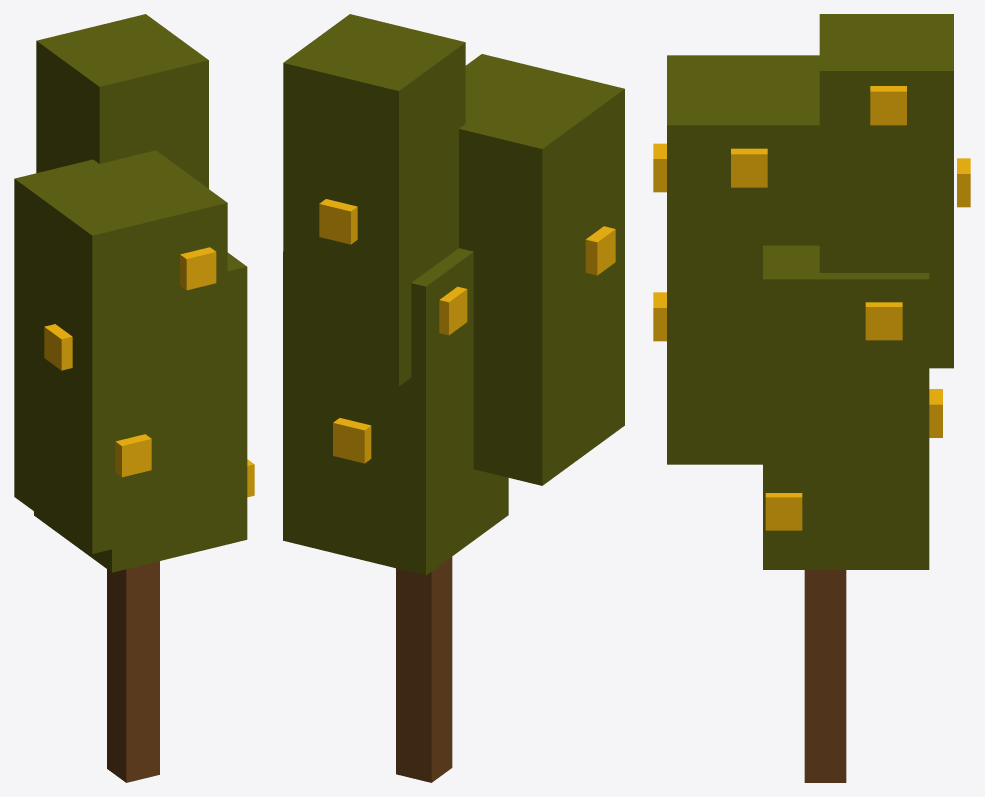
The model's file is HightWood3.fbx.
3 renders of one model, left to right at view 1: azimuth 30°, elevation 25°; view 2: azimuth 150°, elevation 25°; view 3: azimuth 270°, elevation 25°, orthographic. The views are drawn at different scales.
Visible parts, largest first — view 1: Cube.014; view 2: Cube.014; view 3: Cube.014.
Part boxes in pixels (x1,y1,x2,y2): Cube.014: (14, 14, 254, 782); Cube.014: (283, 14, 624, 782); Cube.014: (653, 14, 970, 782).
Size of the model in its own units: 3446 by 10435 by 4051.
